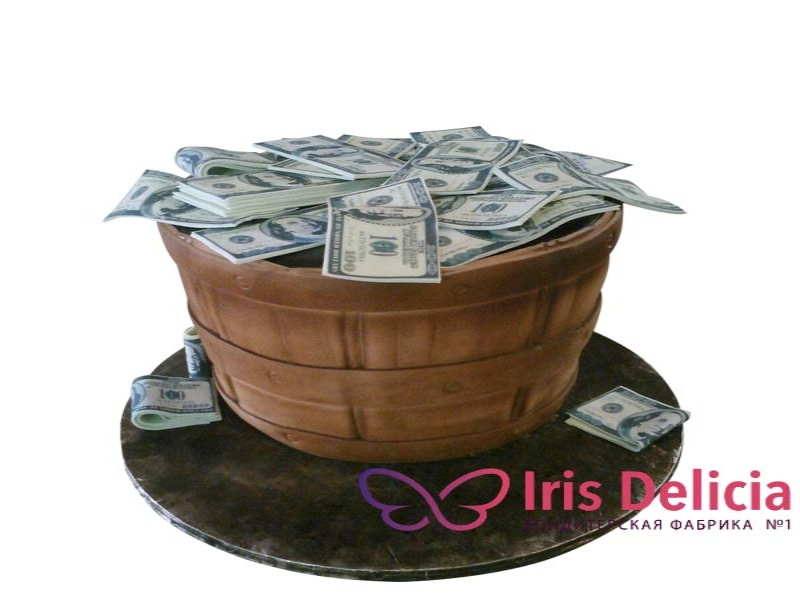cash: (104, 125, 688, 284), (561, 385, 690, 453), (129, 375, 221, 430), (183, 327, 207, 380)
